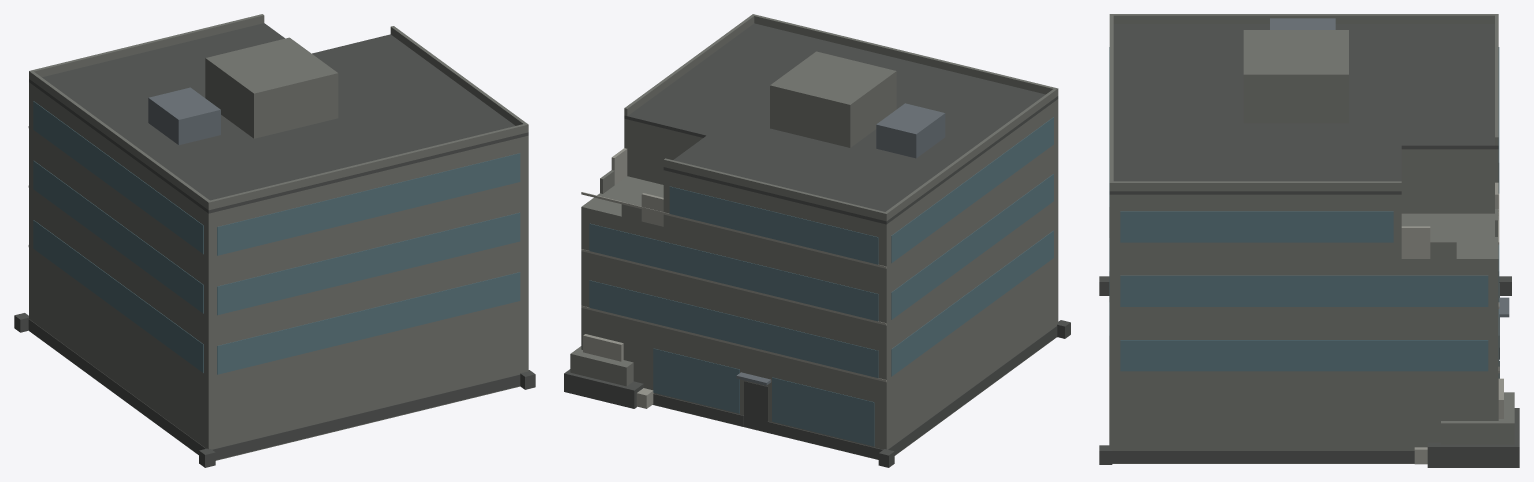
The model's file is office_lod1.glb.
3 renders of one model, left to right at view 1: azimuth 30°, elevation 25°; view 2: azimuth 150°, elevation 25°; view 3: azimuth 270°, elevation 25°, orthographic. The views are drawn at different scales.
Parts seen in each view (by area): view 1: office_lod1; view 2: office_lod1; view 3: office_lod1.
Part boxes in pixels (<box>): office_lod1: <box>14,14,535,467</box>; office_lod1: <box>564,14,1070,467</box>; office_lod1: <box>1099,14,1519,467</box>.
Size of what is drawn, in the model's own units: 16 by 13.5 by 16.
2 materials, 2 textured.
